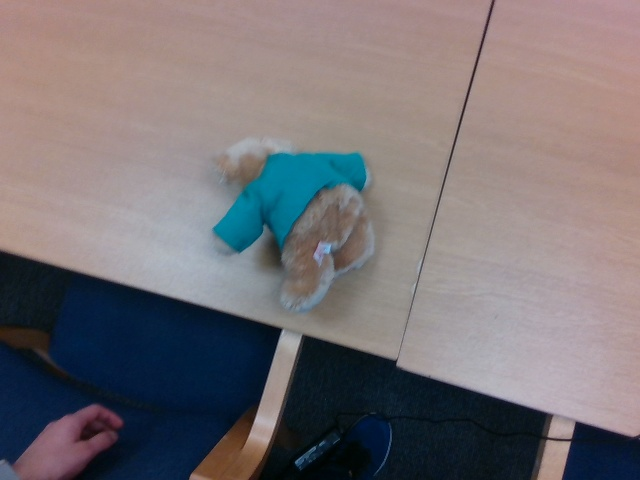teddy: (212, 134, 376, 311)
